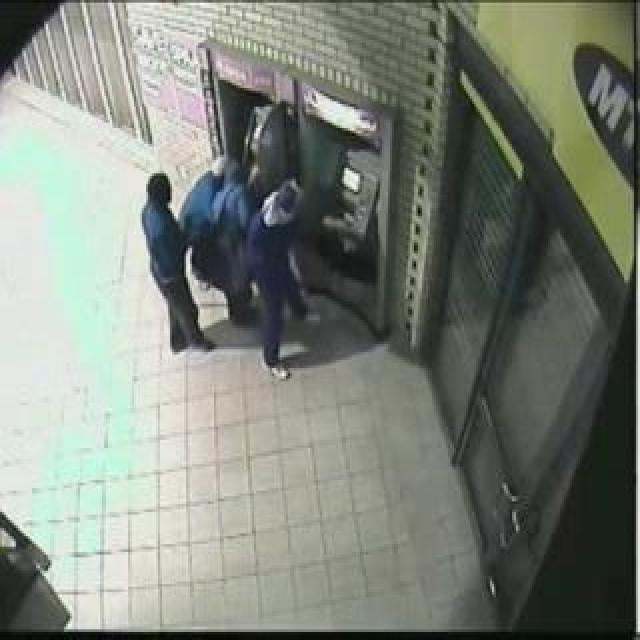thief: (136, 146, 312, 292)
